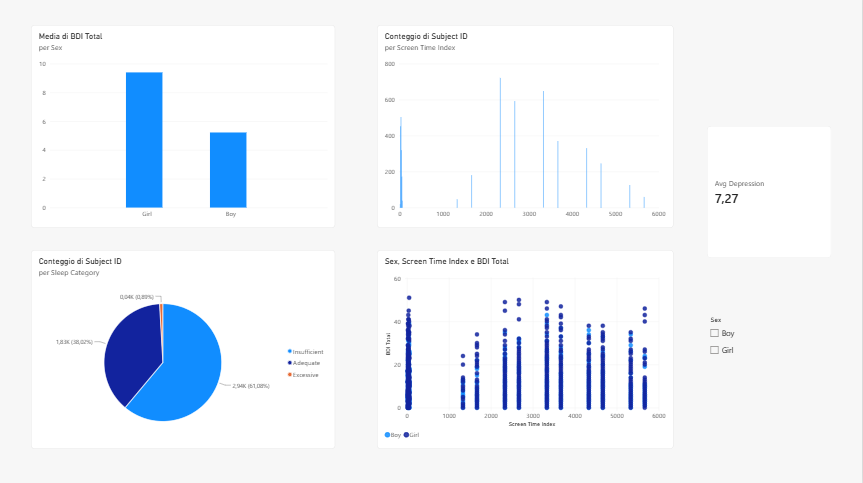

Layout of this report page (visuals, bound fields, positions):
{"tool":"powerbi","page":{"name":"Riepilogo","canvas":[1920,1080],"ordinal":4},"visuals":[{"type":"clusteredColumnChart","fields":{"Category":["screen_time_mental_health (2).Sex"],"Y":["Avg(screen_time_mental_health (2).BDI Total)"]},"box":[72.3,61.7,676.1,450.7],"z":0},{"type":"columnChart","fields":{"Category":["screen_time_mental_health (2).Screen Time Index"],"Y":["CountNonNull(screen_time_mental_health (2).Subject ID)"]},"box":[841.9,61.7,659.1,450.7],"z":1},{"type":"pieChart","fields":{"Category":["screen_time_mental_health (2).Sleep Category"],"Y":["CountNonNull(screen_time_mental_health (2).Subject ID)"]},"box":[72.3,561.3,676.1,442.2],"z":2},{"type":"scatterChart","fields":{"X":["screen_time_mental_health (2).Screen Time Index"],"Y":["screen_time_mental_health (2).BDI Total"],"Series":["screen_time_mental_health (2).Sex"]},"box":[841.9,561.3,659.1,442.2],"z":3},{"type":"slicer","fields":{"Values":["screen_time_mental_health (2).Sex"]},"box":[1575.4,708,276.4,114.8],"z":4},{"type":"cardVisual","fields":{"Data":["screen_time_mental_health (2).AVG Filter"]},"box":[1575.4,287,276.4,293.4],"z":5}]}

Visuals, with their boxes in screenshot pixels (x1, y1, x2, y2), scaled from the page's 1920x1080 canvas onto the 863x483 screenshot:
clusteredColumnChart - screen_time_mental_health (2).Sex x Avg(screen_time_mental_health (2).BDI Total): box=[32, 28, 336, 229]
columnChart - screen_time_mental_health (2).Screen Time Index x CountNonNull(screen_time_mental_health (2).Subject ID): box=[378, 28, 675, 229]
pieChart - screen_time_mental_health (2).Sleep Category x CountNonNull(screen_time_mental_health (2).Subject ID): box=[32, 251, 336, 449]
scatterChart - screen_time_mental_health (2).Screen Time Index x screen_time_mental_health (2).BDI Total: box=[378, 251, 675, 449]
slicer - screen_time_mental_health (2).Sex: box=[708, 317, 832, 368]
cardVisual - screen_time_mental_health (2).AVG Filter: box=[708, 128, 832, 260]
